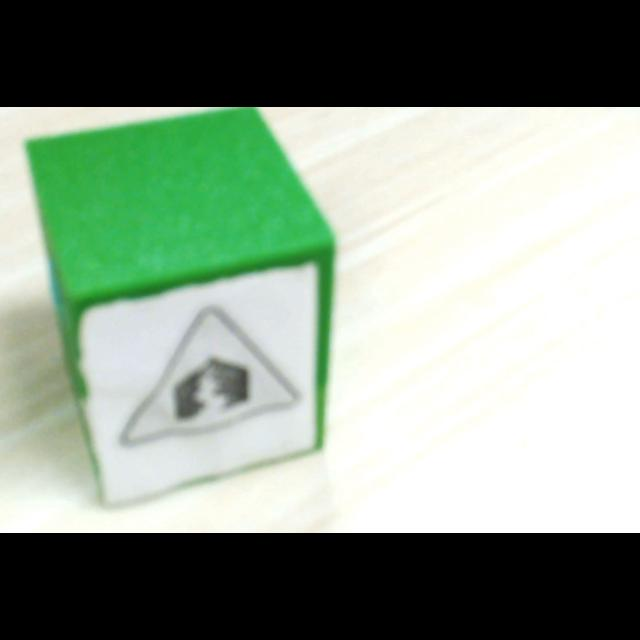Earthquake: (120, 306, 301, 447)
